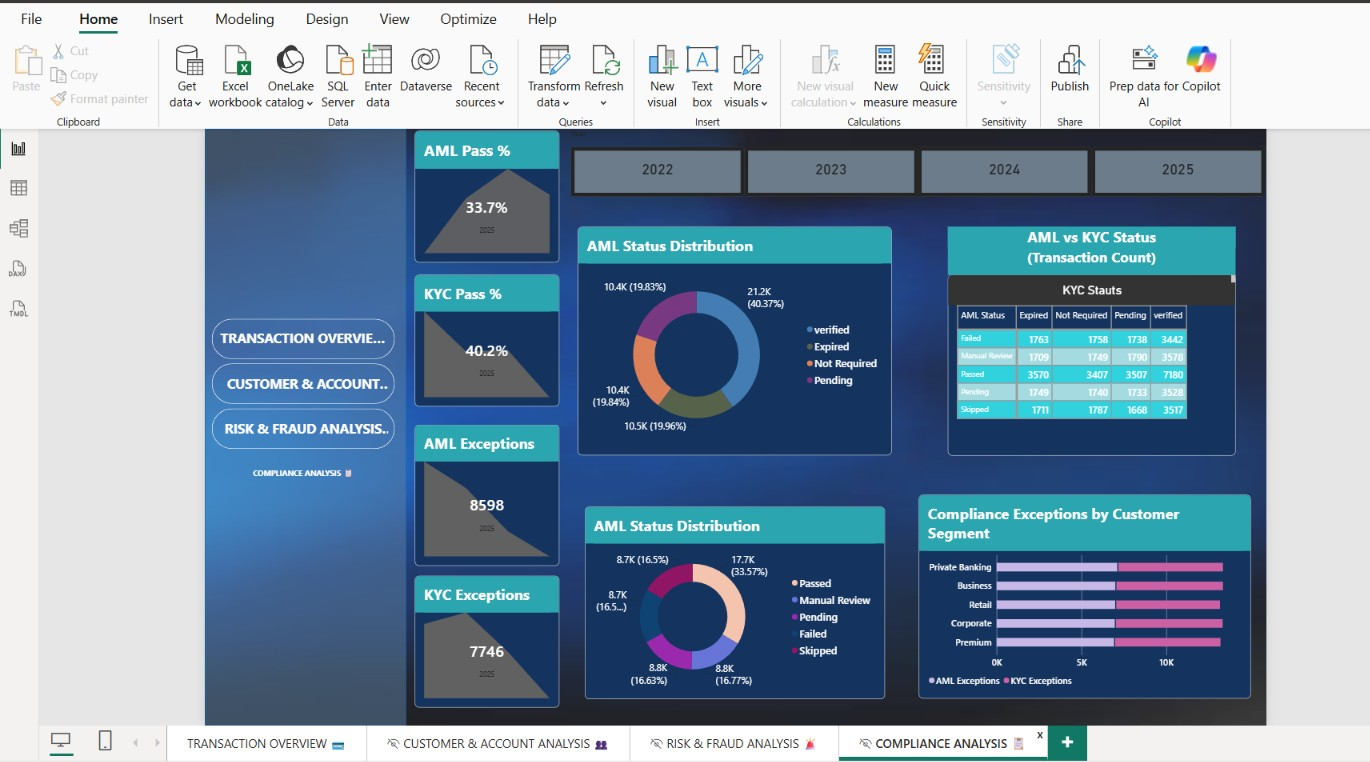

This screenshot's page, from the dashboard's own definition file:
{"tool":"powerbi","page":{"name":"COMPLIANCE ANALYSIS 📋 ","canvas":[1920,1080],"ordinal":3},"visuals":[{"type":"kpi","title":"AML Pass % ","fields":{"Indicator":["finance_banking_transactions_2022_2025 (1).AML Pass %"],"TrendLine":["finance_banking_transactions_2022_2025 (1).transaction_date_clean.Variation.Date Hierarchy.Year"]},"box":[380.8,4.1,261.4,238.8],"z":2},{"type":"kpi","title":"KYC Pass % ","fields":{"Indicator":["finance_banking_transactions_2022_2025 (1).KYC Pass %"],"TrendLine":["finance_banking_transactions_2022_2025 (1).transaction_date_clean.Variation.Date Hierarchy.Year"]},"box":[380.8,263.5,261.4,238.8],"z":3},{"type":"kpi","title":"AML Exceptions","fields":{"Indicator":["finance_banking_transactions_2022_2025 (1).AML Exceptions"],"TrendLine":["finance_banking_transactions_2022_2025 (1).transaction_date_clean.Variation.Date Hierarchy.Year"]},"box":[380.8,535.2,261.4,255.2],"z":4},{"type":"kpi","title":"KYC Exceptions","fields":{"Indicator":["finance_banking_transactions_2022_2025 (1).KYC Exceptions"],"TrendLine":["finance_banking_transactions_2022_2025 (1).transaction_date_clean.Variation.Date Hierarchy.Year"]},"box":[380.8,808.9,261.4,238.8],"z":5},{"type":"donutChart","title":"AML Status Distribution","fields":{"Category":["finance_banking_transactions_2022_2025 (1).aml_check_status"],"Y":["CountNonNull(finance_banking_transactions_2022_2025 (1).transaction_id)"]},"box":[687.5,683.4,543.4,347.9],"z":6},{"type":"donutChart","title":"AML Status Distribution","fields":{"Category":["finance_banking_transactions_2022_2025 (1).kyc_status"],"Y":["CountNonNull(finance_banking_transactions_2022_2025 (1).transaction_id)"]},"box":[675.1,177,568.1,413.7],"z":7},{"type":"pivotTable","title":"KYC Stauts","fields":{"Columns":["finance_banking_transactions_2022_2025 (1).kyc_status"],"Rows":["finance_banking_transactions_2022_2025 (1).aml_check_status"],"Values":["CountNonNull(finance_banking_transactions_2022_2025 (1).transaction_id)"]},"box":[1344.1,263.5,520.8,327.3],"z":8},{"type":"textbox","title":"AML vs KYC Status ","box":[1344.1,177,520.8,100.9],"z":9},{"type":"barChart","title":"Compliance Exceptions by Customer Segment","fields":{"Category":["finance_banking_transactions_2022_2025 (1).customer_segment"],"Y":["finance_banking_transactions_2022_2025 (1).AML Exceptions","finance_banking_transactions_2022_2025 (1).KYC Exceptions"]},"box":[1292.6,662.8,601,368.4],"z":11},{"type":"advancedSlicerVisual","fields":{"Values":["finance_banking_transactions_2022_2025 (1).transaction_date_clean.Variation.Date Hierarchy.Year"]},"box":[662.8,0,1257.6,123.5],"z":12},{"type":"shape","box":[0,0,364.3,1080.6],"z":13},{"type":"pageNavigator","box":[12.3,343.7,331.4,319],"z":14}]}

Visuals, with their boxes on the page's 1920x1080 design canvas (x1, y1, x2, y2). These are canvas units, not pixel positions in the 1370x762 screenshot, which may show the page scaled, cropped or inside an application window:
"AML Pass % " kpi: bbox=[381, 4, 642, 243]
"KYC Pass % " kpi: bbox=[381, 264, 642, 502]
"AML Exceptions" kpi: bbox=[381, 535, 642, 790]
"KYC Exceptions" kpi: bbox=[381, 809, 642, 1048]
"AML Status Distribution" donutChart: bbox=[688, 683, 1231, 1031]
"AML Status Distribution" donutChart: bbox=[675, 177, 1243, 591]
"KYC Stauts" pivotTable: bbox=[1344, 264, 1865, 591]
"AML vs KYC Status " textbox: bbox=[1344, 177, 1865, 278]
"Compliance Exceptions by Customer Segment" barChart: bbox=[1293, 663, 1894, 1031]
advancedSlicerVisual - finance_banking_transactions_2022_2025 (1).transaction_date_clean.Variation.Date Hierarchy.Year: bbox=[663, 0, 1920, 124]
shape: bbox=[0, 0, 364, 1081]
pageNavigator: bbox=[12, 344, 344, 663]
